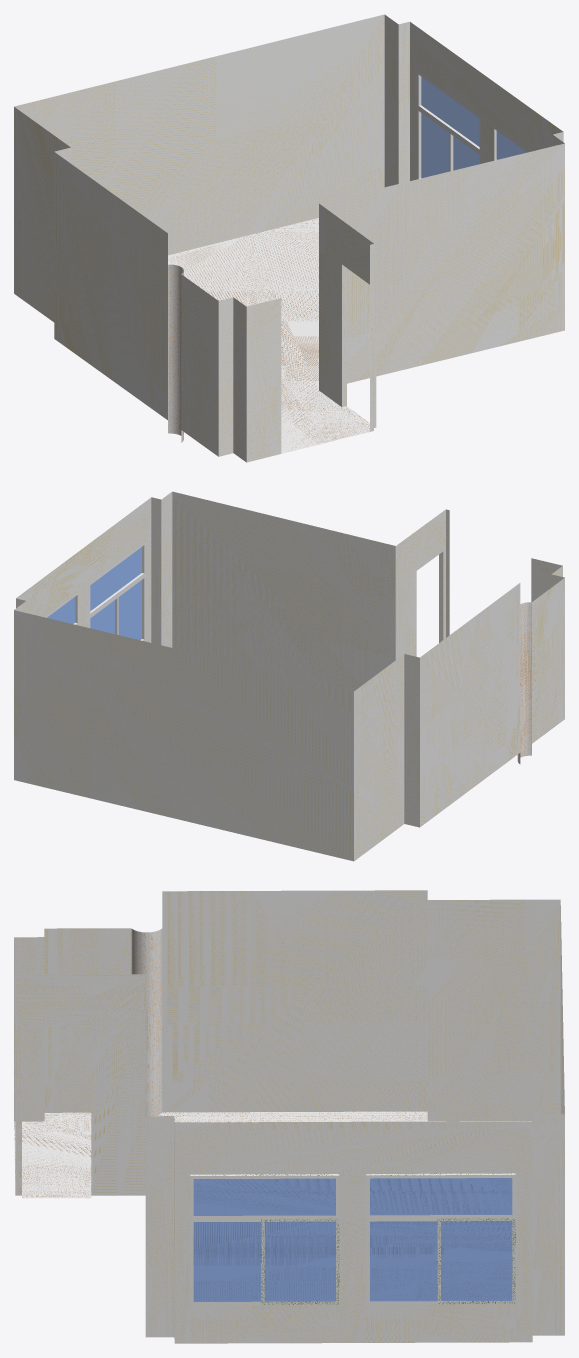
Rendered from LAB014.obj.
3 renders of one model, top to bottom at view 1: azimuth 30°, elevation 25°; view 2: azimuth 150°, elevation 25°; view 3: azimuth 270°, elevation 25°, orthographic. The views are drawn at different scales.
Parts seen in each view (by area): view 1: Mesh13 LAB014 Model, Mesh7 ventana1_2_2 LAB014 Model, Mesh1 ventana1_2_1 LAB014 Model; view 2: Mesh13 LAB014 Model, Mesh1 ventana1_2_1 LAB014 Model, Mesh7 ventana1_2_2 LAB014 Model; view 3: Mesh13 LAB014 Model, Mesh7 ventana1_2_2 LAB014 Model, Mesh1 ventana1_2_1 LAB014 Model.
Part boxes in pixels (x1,y1,x2,y2): Mesh13 LAB014 Model: (14,14,564,462); Mesh7 ventana1_2_2 LAB014 Model: (417,71,481,179); Mesh1 ventana1_2_1 LAB014 Model: (493,125,529,160); Mesh13 LAB014 Model: (14,491,564,861); Mesh1 ventana1_2_1 LAB014 Model: (89,542,145,641); Mesh7 ventana1_2_2 LAB014 Model: (45,592,78,625); Mesh13 LAB014 Model: (14,890,564,1343); Mesh7 ventana1_2_2 LAB014 Model: (366,1173,515,1304); Mesh1 ventana1_2_1 LAB014 Model: (190,1174,339,1304).
Bounding box in the file's own units: 8.15 × 3.85 × 8.13.
8 materials, 1 textured.
